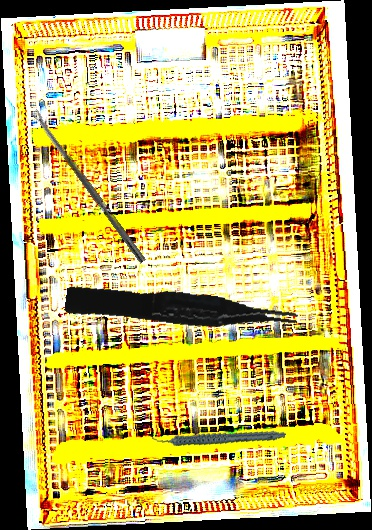Handpiece: (149, 406, 287, 467)
Surgical Spoon: (31, 108, 147, 264)
Tissue Forceps: (64, 275, 299, 345)
